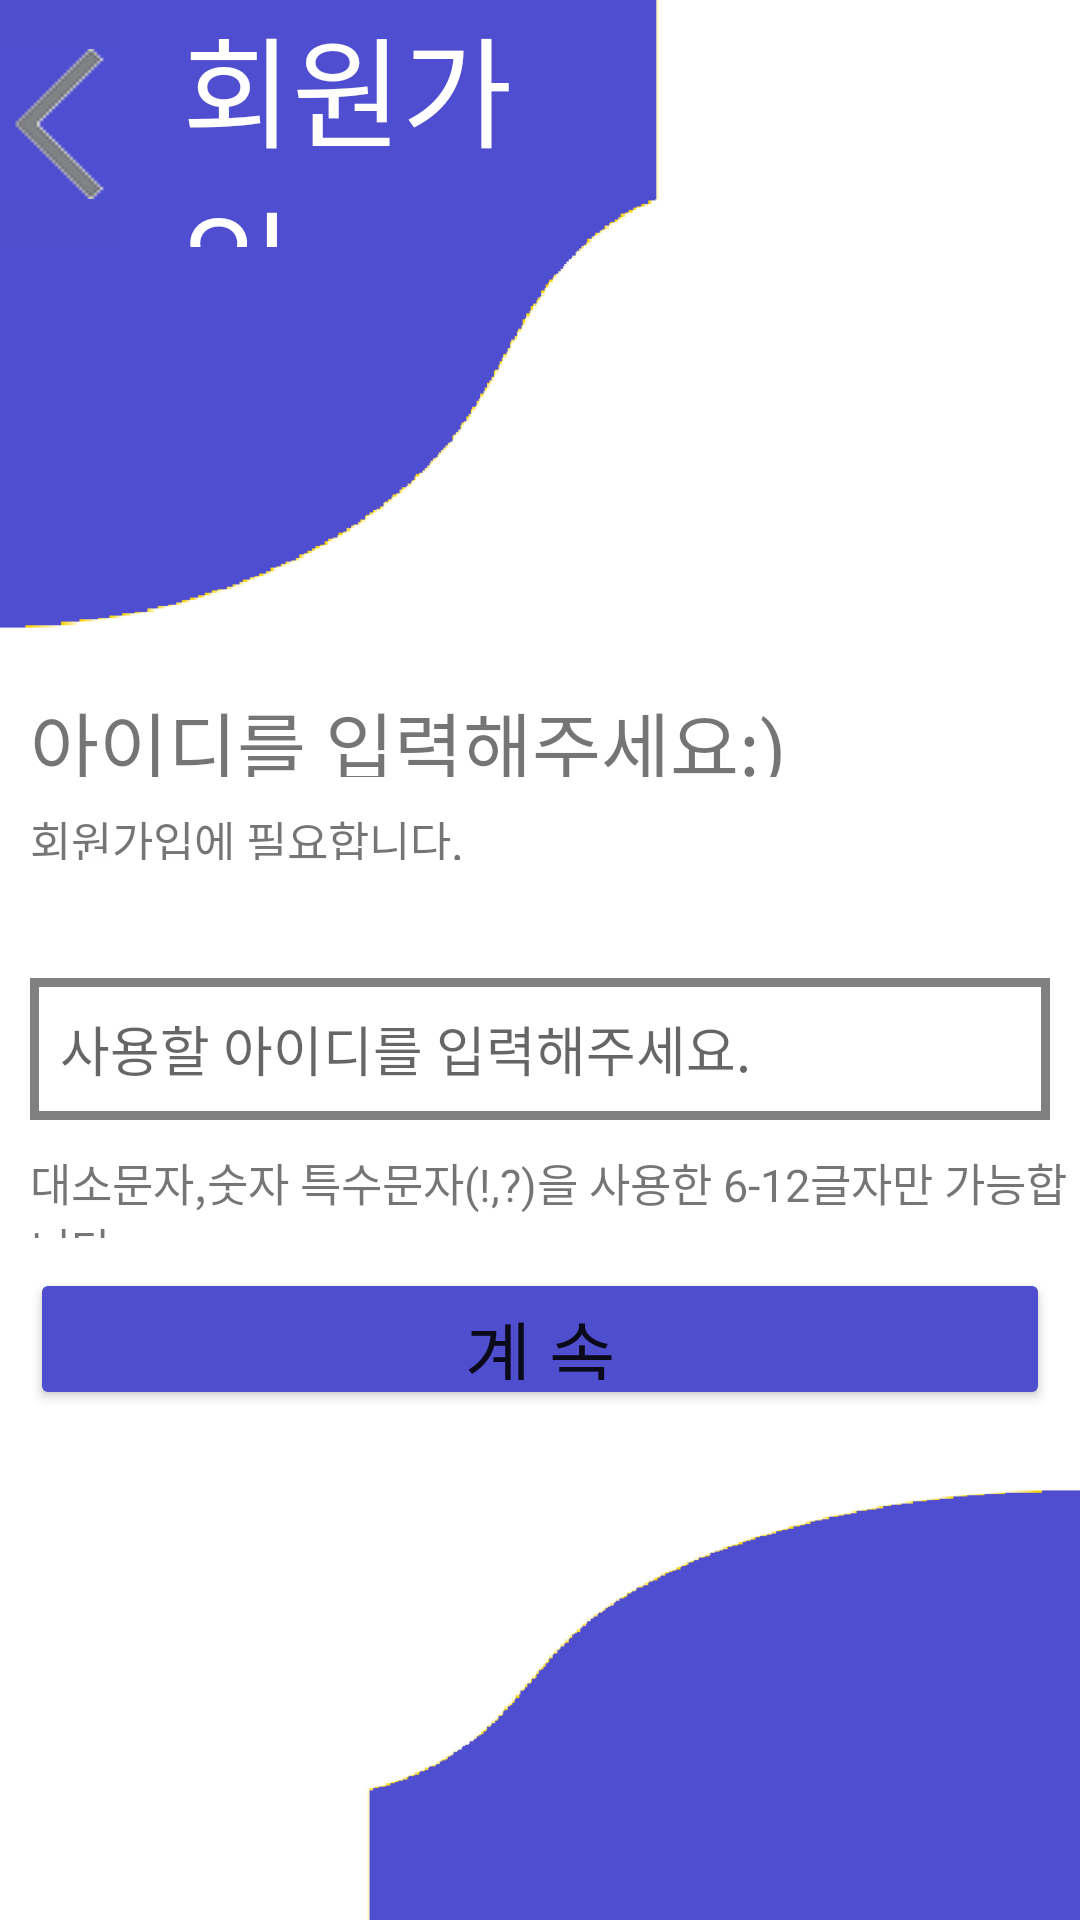

Screen size 1080px x 1920px. Icon name, then its box in pixels as (x1, y1, x2, y2):
back space: (15, 49, 104, 199)
